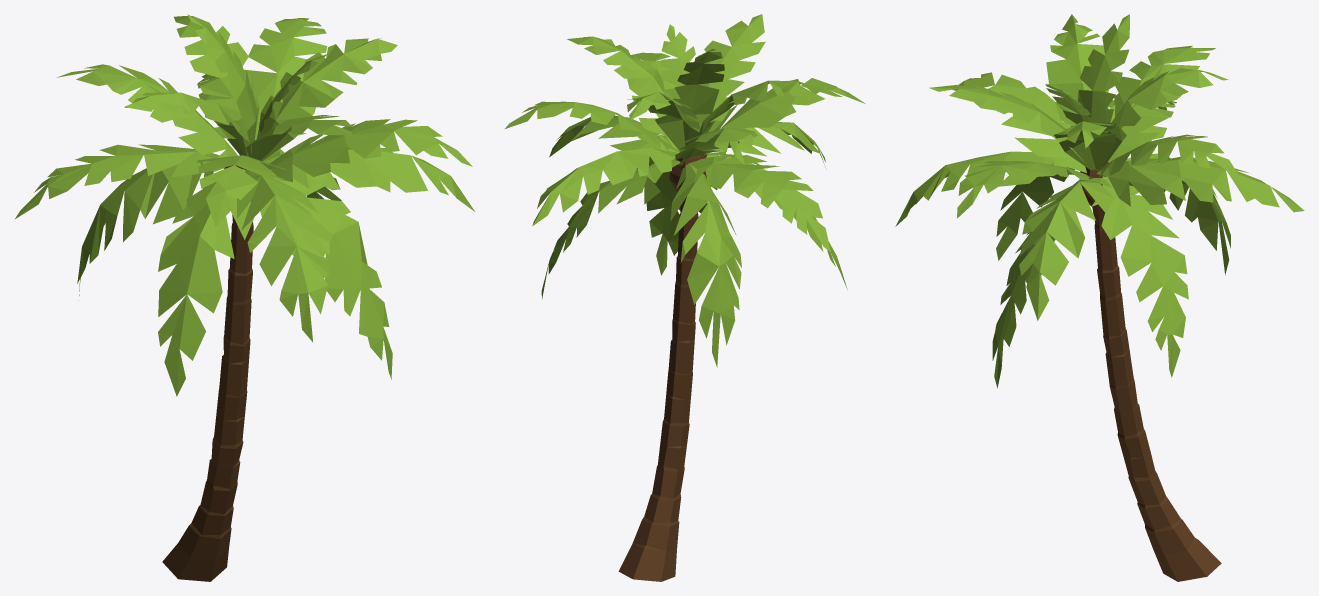
File: SM_Tree_Palm_Mature_B.fbx
The picture shows the model from 3 angles, left to right: view 1: azimuth 30°, elevation 25°; view 2: azimuth 150°, elevation 25°; view 3: azimuth 270°, elevation 25°; orthographic projection. The views are drawn at different scales.
Parts seen in each view (by area): view 1: tree-palm-mature-b; view 2: tree-palm-mature-b; view 3: tree-palm-mature-b.
Part boxes in pixels (x1,y1,x2,y2): tree-palm-mature-b: (15,14,474,581); tree-palm-mature-b: (504,14,865,581); tree-palm-mature-b: (895,14,1304,581).
Bounding box in the file's own units: 4.3 × 6.2 × 4.26.
